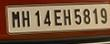1: (34, 10, 42, 28), (93, 8, 99, 25)
4: (43, 10, 52, 27)
5: (73, 8, 81, 25)
8: (82, 9, 91, 25)
9: (100, 7, 108, 25)
E: (54, 10, 63, 26)
H: (21, 10, 32, 28), (62, 9, 72, 26)
M: (11, 10, 21, 29)
